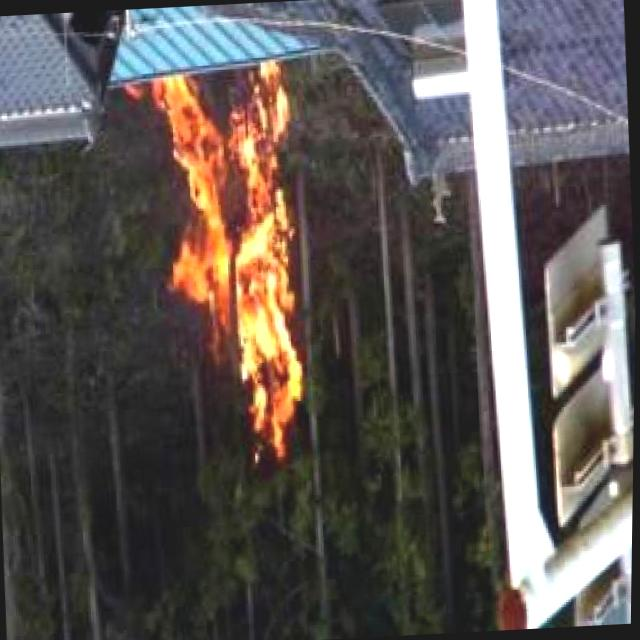helmet: (114, 62, 330, 486)
